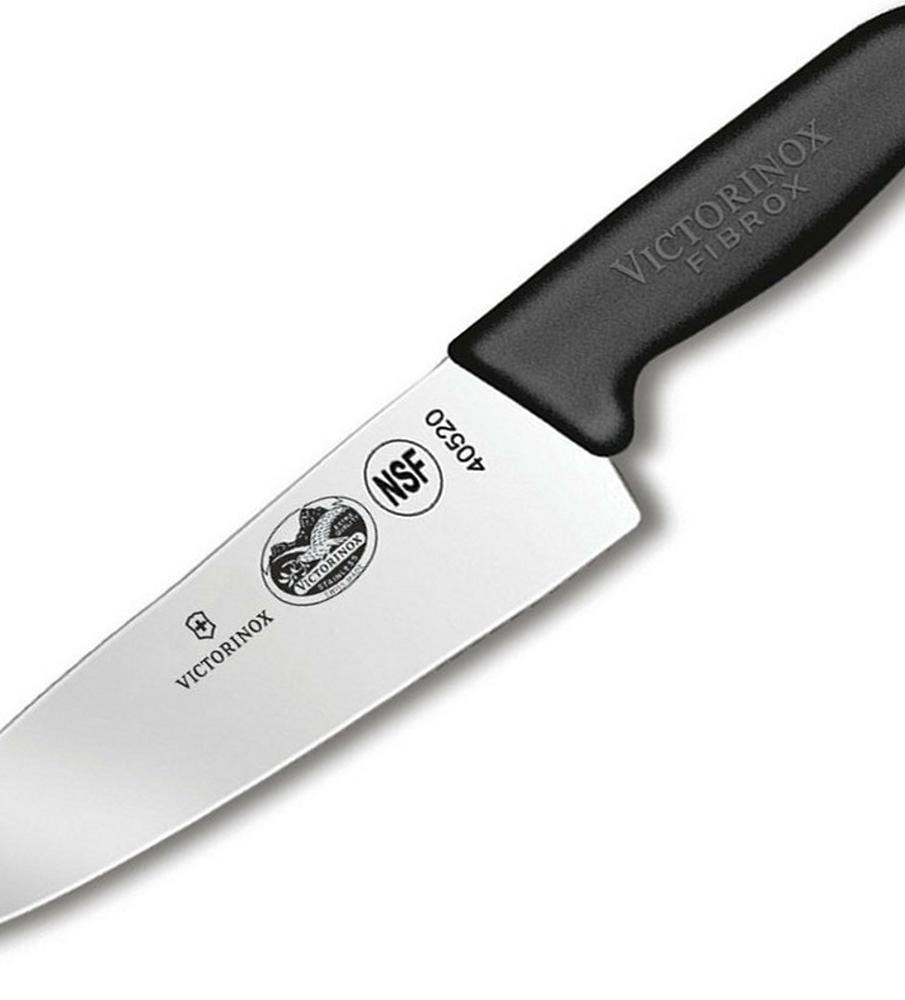knife: (6, 6, 905, 934)
